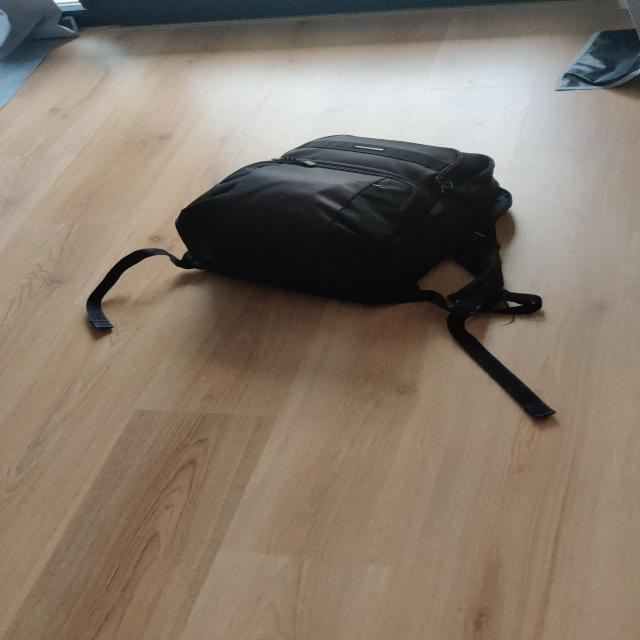backpack: (165, 127, 526, 310)
